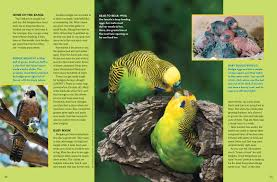budgie: (154, 86, 205, 176), (102, 46, 186, 92)
